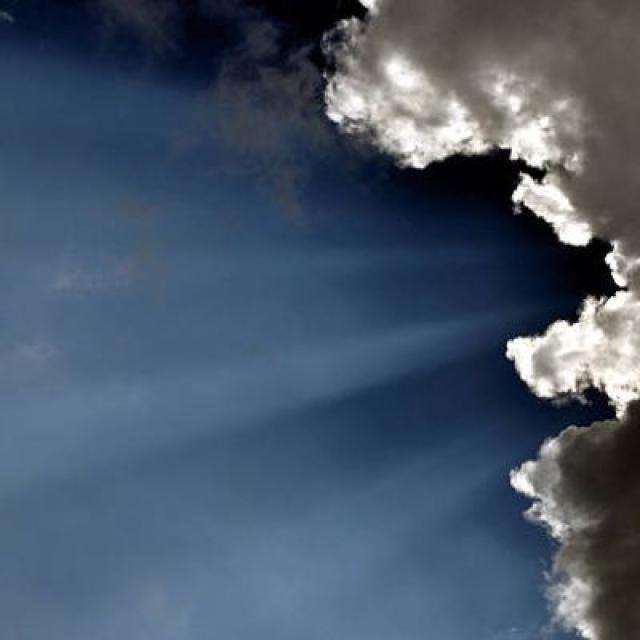As: (12, 25, 640, 640)
